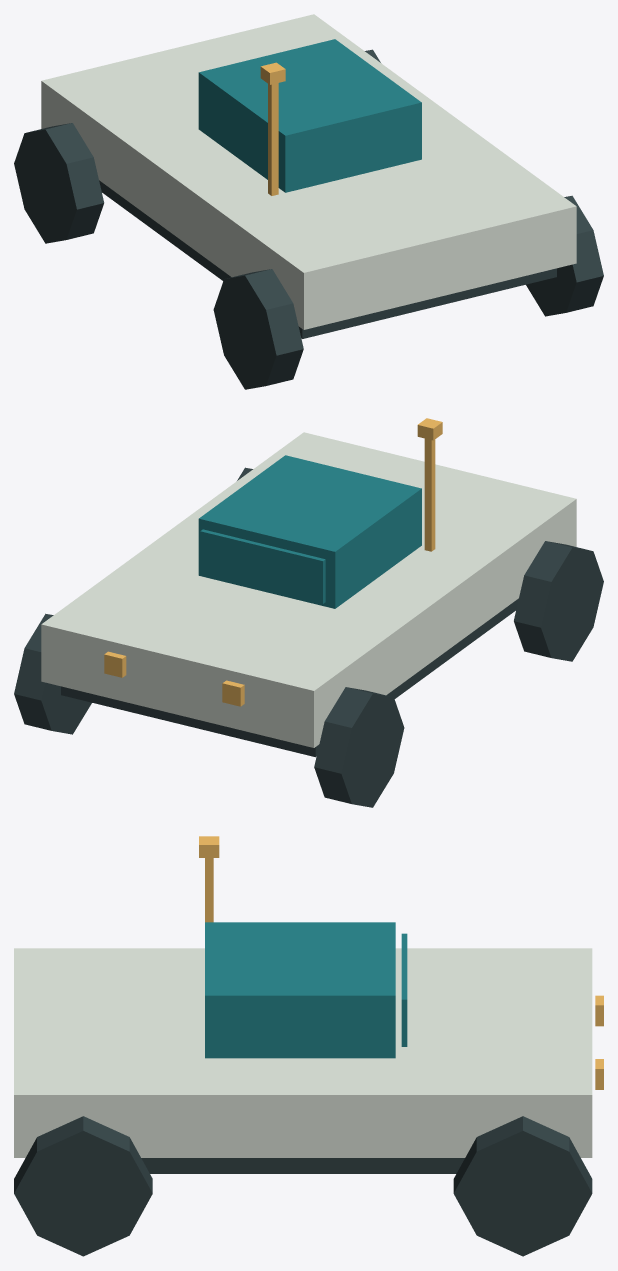
Rendered from rf2-rover.glb.
3 renders of one model, top to bottom at view 1: azimuth 30°, elevation 25°; view 2: azimuth 150°, elevation 25°; view 3: azimuth 270°, elevation 25°, orthographic. The views are drawn at different scales.
Parts seen in each view (by area): view 1: body, cabin, wheel_left_rear, wheel_left_front, wheel_right_rear, chassis, antenna; view 2: body, cabin, wheel_left_front, wheel_left_rear, windscreen, wheel_right_front, chassis, antenna, eye_left, eye_right; view 3: body, cabin, wheel_right_front, wheel_right_rear, chassis, windscreen, antenna.
Part boxes in pixels (bbox=[...]): body: bbox=[41, 14, 576, 329]; cabin: bbox=[198, 39, 421, 192]; wheel_left_rear: bbox=[213, 269, 303, 389]; wheel_left_front: bbox=[14, 123, 104, 243]; wheel_right_rear: bbox=[526, 195, 603, 316]; chassis: bbox=[99, 180, 556, 338]; antenna: bbox=[268, 83, 278, 195]; body: bbox=[41, 432, 576, 747]; cabin: bbox=[198, 455, 421, 608]; wheel_left_front: bbox=[314, 687, 404, 807]; wheel_left_rear: bbox=[514, 541, 603, 661]; windscreen: bbox=[200, 529, 325, 603]; wheel_right_front: bbox=[14, 613, 91, 734]; chassis: bbox=[61, 598, 518, 757]; antenna: bbox=[424, 438, 435, 551]; eye_left: bbox=[222, 680, 244, 706]; eye_right: bbox=[104, 651, 126, 677]; body: bbox=[14, 948, 592, 1157]; cabin: bbox=[205, 922, 395, 1058]; wheel_right_front: bbox=[453, 1116, 592, 1256]; wheel_right_rear: bbox=[14, 1116, 152, 1256]; chassis: bbox=[141, 1158, 464, 1173]; windscreen: bbox=[401, 933, 407, 1046]; antenna: bbox=[205, 858, 213, 922].
Bounding box in the file's own units: 1.44 × 1.09 × 2.04.
